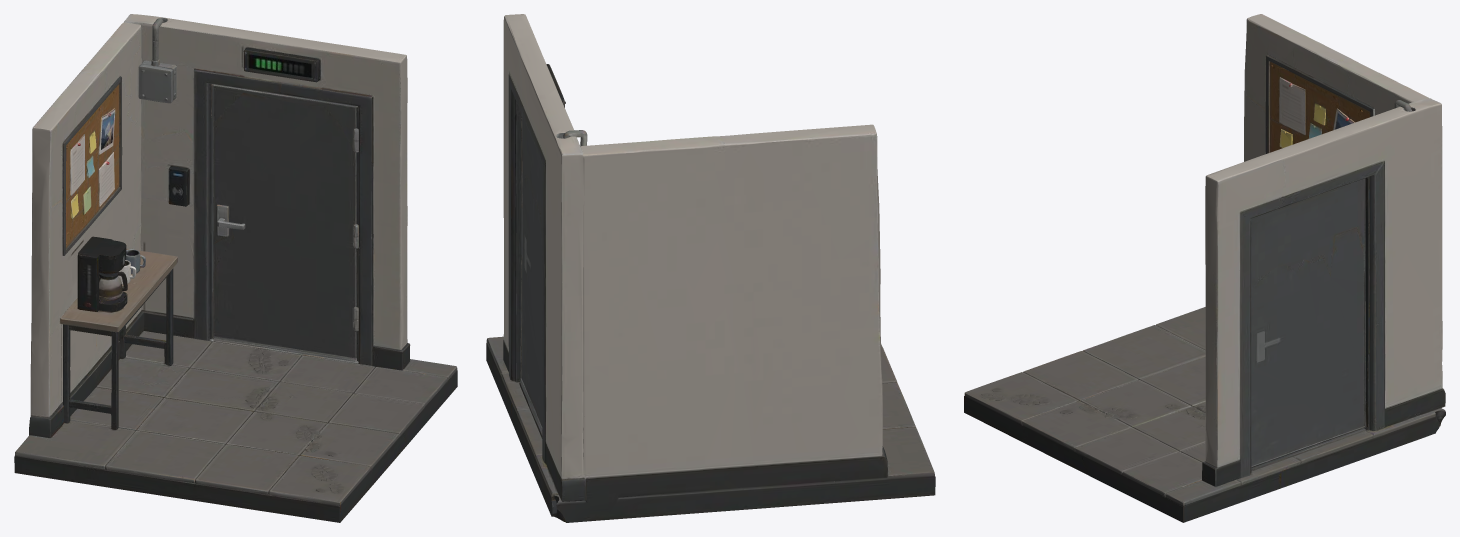
Rendered from DESC_B.glb.
The picture shows the model from 3 angles, left to right: view 1: azimuth 30°, elevation 25°; view 2: azimuth 150°, elevation 25°; view 3: azimuth 270°, elevation 25°; orthographic projection. The views are drawn at different scales.
Visible parts, largest first — view 1: escala_real; view 2: escala_real; view 3: escala_real.
Boxes of the visible parts, x1,y1,x2,y2 form: escala_real: [14, 14, 457, 522]; escala_real: [486, 14, 935, 522]; escala_real: [964, 14, 1445, 522].
Bounding box in the file's own units: 3.3 × 2.48 × 3.29.
Materials: 1 (1 with a texture image).
